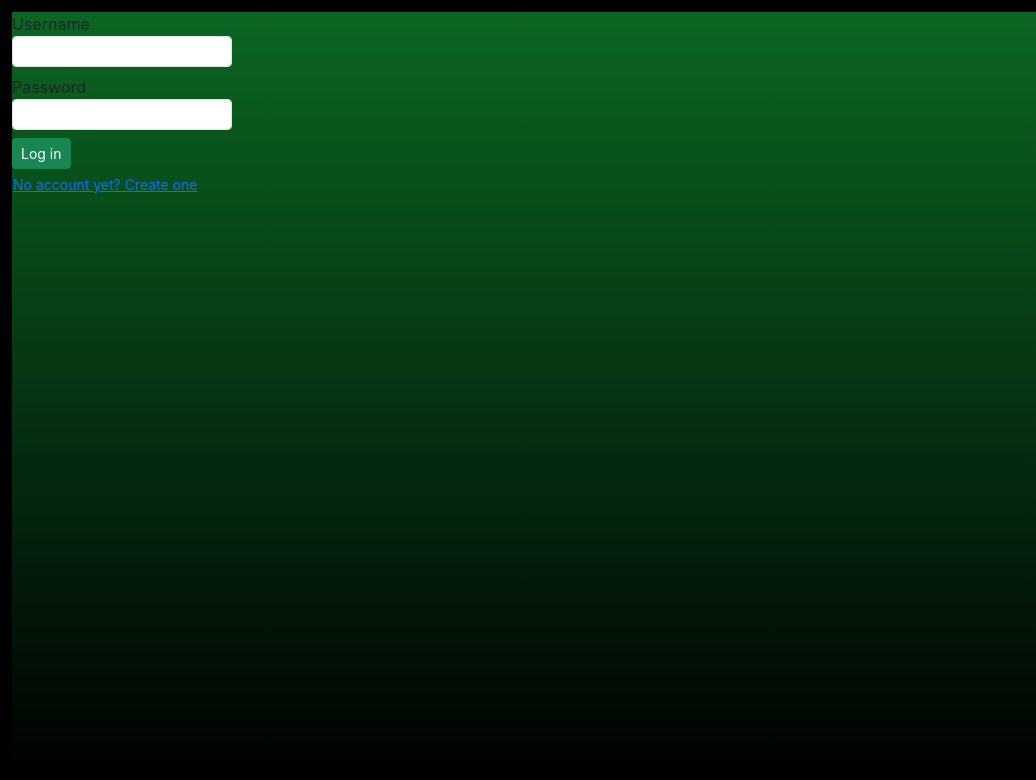
a server error is shown translated and the form stays put
Step 1. Type "test_user_b" into the field labelled "Username" → {"x": 122, "y": 52}, box [12,36,232,67]
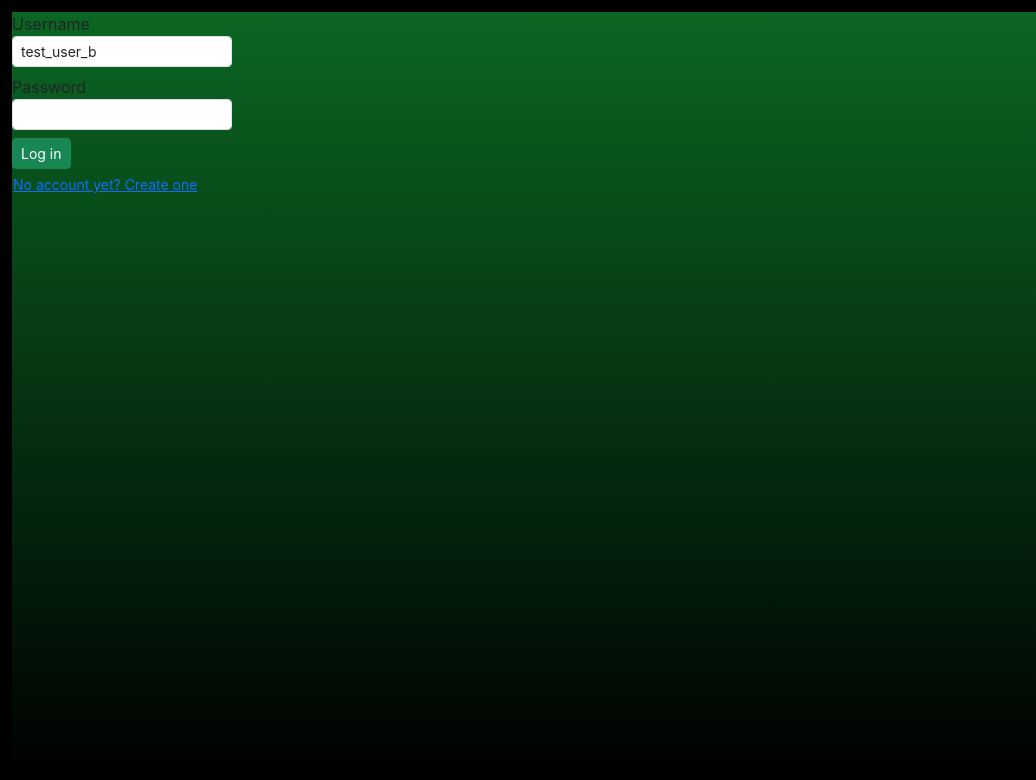
Step 2. Type "wrongpassword" into the password field labelled "Password" → {"x": 122, "y": 114}, box [12,99,232,130]
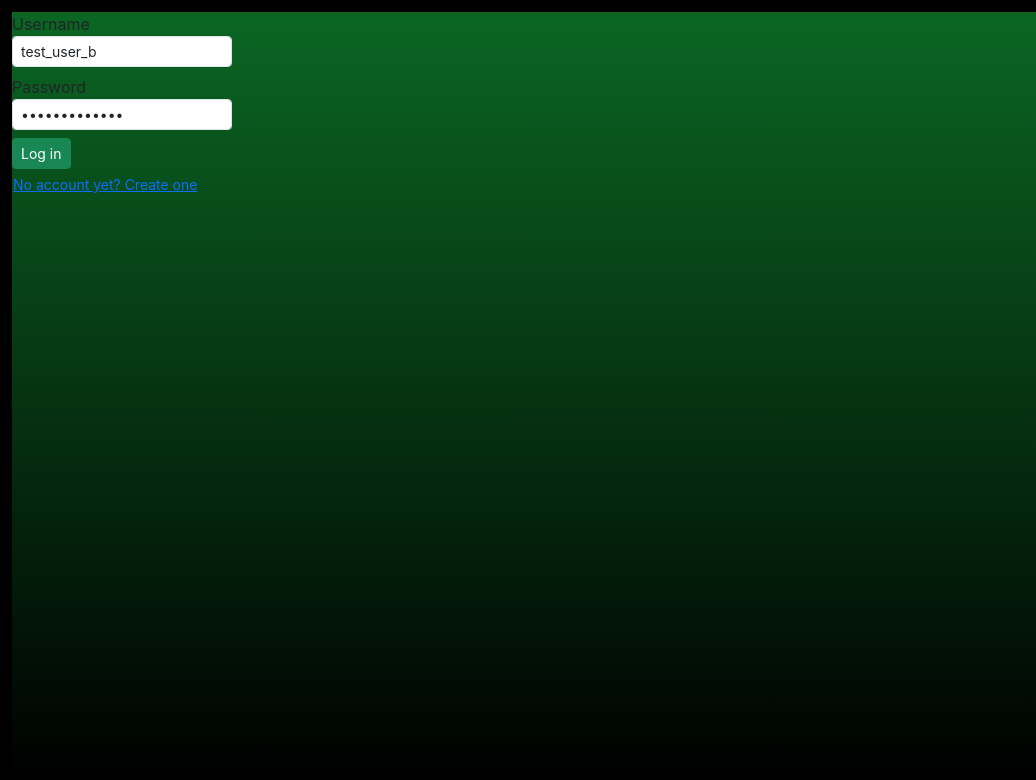
Step 3. Click the button "Log in" → {"x": 41, "y": 154}, box [12,138,70,169]
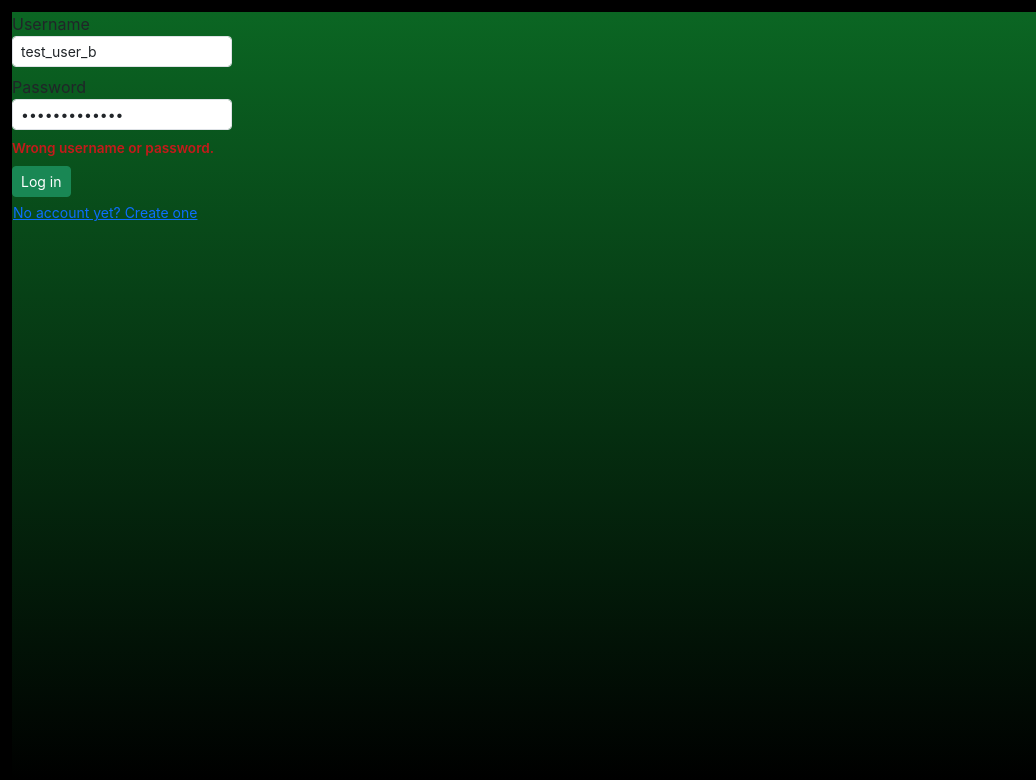
Expected: the message reads "Wrong username or password.", [12,140,214,156]
